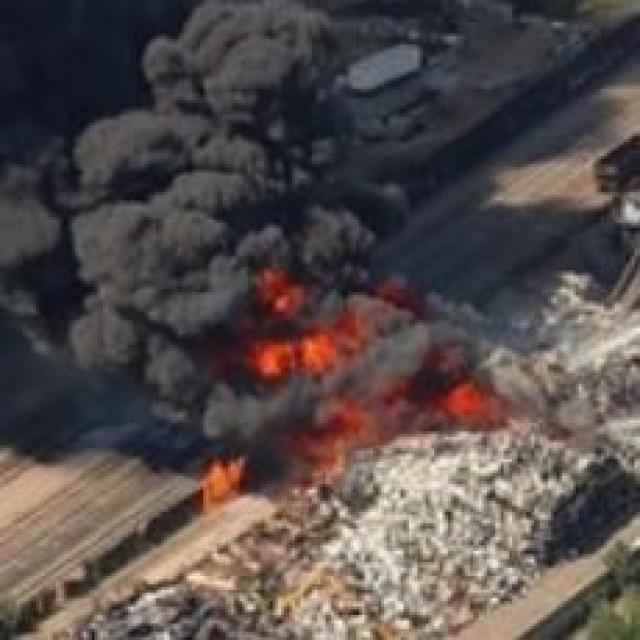Fire: (306, 422, 363, 494), (206, 463, 251, 506), (453, 386, 491, 416)
Smoke: (0, 0, 417, 416)
